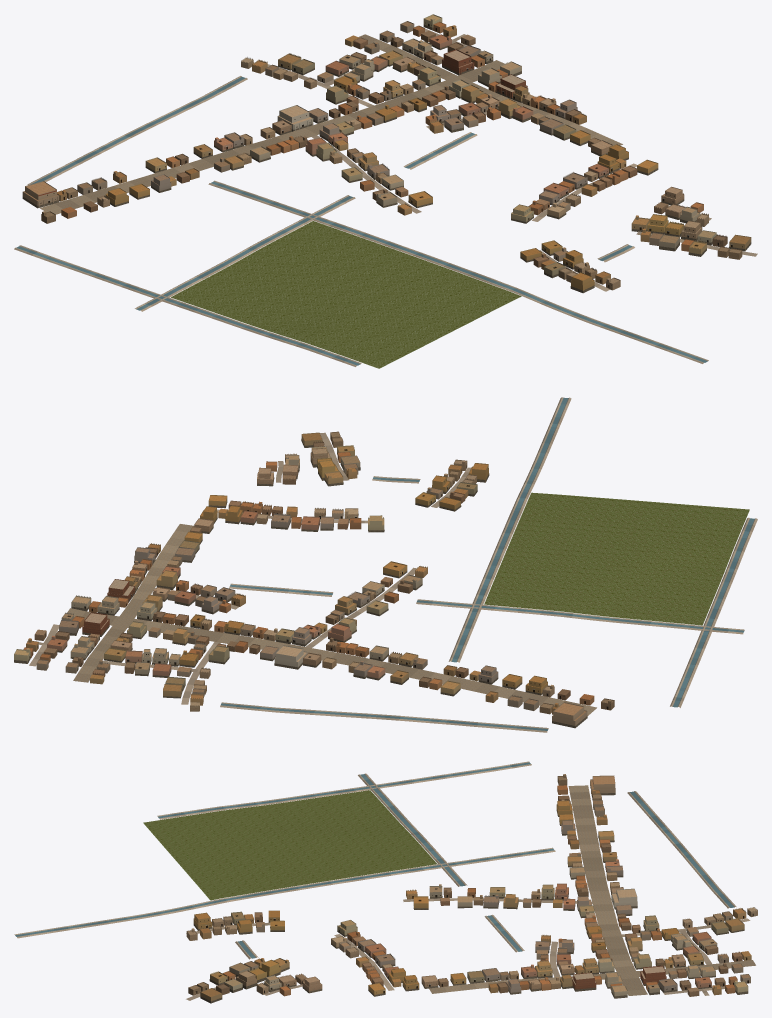
Rendered from uruk_quarter_05.glb.
3 renders of one model, top to bottom at view 1: azimuth 30°, elevation 25°; view 2: azimuth 150°, elevation 25°; view 3: azimuth 270°, elevation 25°, orthographic. The views are drawn at different scales.
Parts seen in each view (by area): view 1: uruk_quarter_05; view 2: uruk_quarter_05; view 3: uruk_quarter_05.
Part boxes in pixels (bbox=[...]): uruk_quarter_05: bbox=[14, 14, 757, 368]; uruk_quarter_05: bbox=[14, 397, 757, 732]; uruk_quarter_05: bbox=[14, 761, 757, 1003].
Bounding box in the file's own units: 407 × 13.62 × 530.
10 materials, 6 textured.
